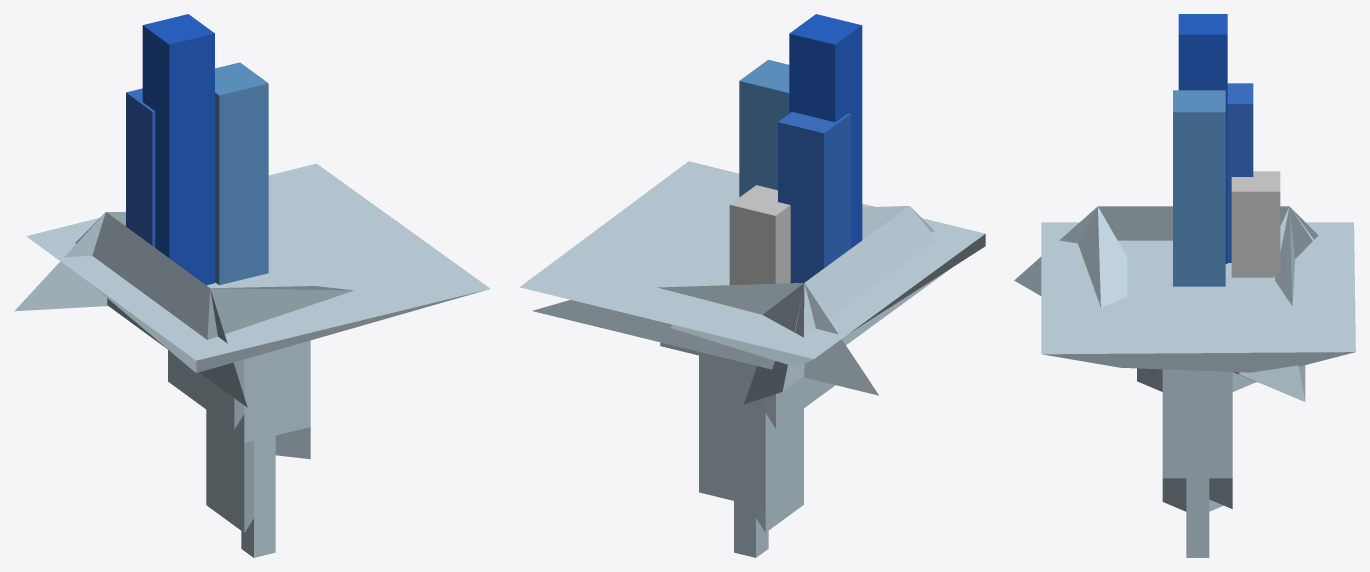
The model's file is blue.fbx.
3 views of the same model, side by side, from view 1: azimuth 30°, elevation 25°; view 2: azimuth 150°, elevation 25°; view 3: azimuth 270°, elevation 25° (orthographic). The views are drawn at different scales.
Visible parts, largest first — view 1: Cube.005, Cube.003, Cube, Cube.002; view 2: Cube.005, Cube.002, Cube.003, Cube.001, Cube; view 3: Cube.005, Cube, Cube.001, Cube.003, Cube.002.
Boxes of the visible parts, x1=… form: Cube.005: x1=14, y1=163, x2=490, y2=557; Cube.003: x1=142, y1=14, x2=214, y2=285; Cube: x1=215, y1=62, x2=268, y2=285; Cube.002: x1=126, y1=88, x2=155, y2=247; Cube.005: x1=520, y1=161, x2=985, y2=557; Cube.002: x1=778, y1=112, x2=850, y2=283; Cube.003: x1=789, y1=14, x2=862, y2=248; Cube.001: x1=729, y1=185, x2=790, y2=284; Cube: x1=739, y1=59, x2=789, y2=197; Cube.005: x1=1014, y1=206, x2=1355, y2=557; Cube: x1=1173, y1=90, x2=1225, y2=286; Cube.001: x1=1231, y1=171, x2=1280, y2=277; Cube.003: x1=1178, y1=14, x2=1227, y2=263; Cube.002: x1=1227, y1=83, x2=1253, y2=262.
Bounding box in the file's own units: 937 × 1396 × 875.
